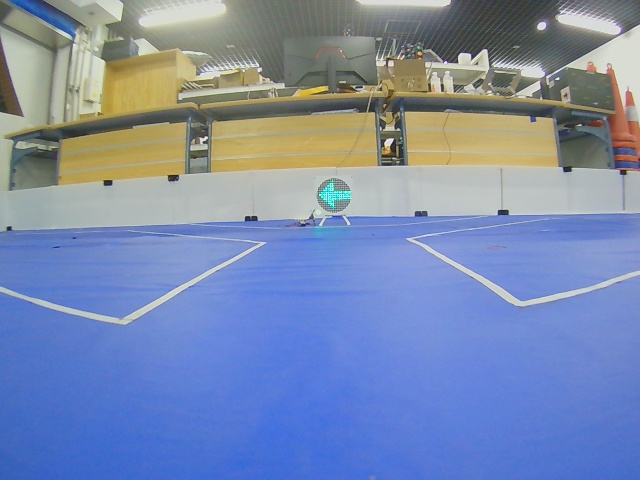left_green: (317, 178, 352, 213)
